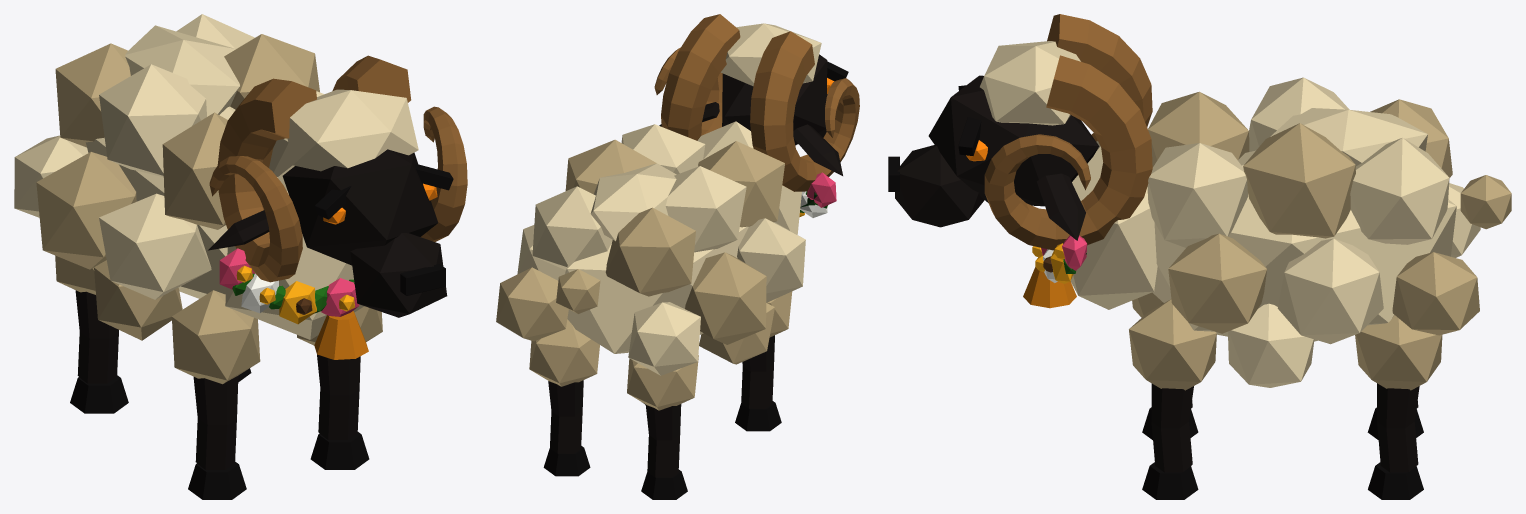
File: Gardien_Prairie_Belier.fbx
3 renders of one model, left to right at view 1: azimuth 30°, elevation 25°; view 2: azimuth 150°, elevation 25°; view 3: azimuth 270°, elevation 25°, orthographic. The views are drawn at different scales.
Visible parts, largest first — view 1: Corps, Tete, Patte_AvD, Guirlande, Patte_AvG, Patte_ArD; view 2: Corps, Tete, Patte_ArG, Patte_ArD, Patte_AvD, Guirlande; view 3: Corps, Tete, Patte_AvG, Patte_ArG, Guirlande, Patte_AvD.
Boxes of the visible parts, left/top/right/bottom form: Corps: left=14, top=14, right=364, bottom=340; Tete: left=208, top=55, right=467, bottom=317; Patte_AvD: left=172, top=290, right=260, bottom=499; Guirlande: left=219, top=248, right=368, bottom=359; Patte_AvG: left=297, top=306, right=382, bottom=469; Patte_ArD: left=55, top=255, right=128, bottom=413; Corps: left=496, top=121, right=805, bottom=375; Tete: left=654, top=14, right=859, bottom=191; Patte_ArG: left=529, top=319, right=599, bottom=476; Patte_ArD: left=627, top=355, right=698, bottom=499; Patte_AvD: left=735, top=291, right=792, bottom=431; Guirlande: left=799, top=172, right=836, bottom=217; Corps: left=1070, top=77, right=1511, bottom=387; Tete: left=888, top=14, right=1152, bottom=250; Patte_AvG: left=1129, top=299, right=1216, bottom=499; Patte_ArG: left=1355, top=315, right=1442, bottom=499; Guirlande: left=1023, top=235, right=1087, bottom=308; Patte_AvD: left=1132, top=292, right=1198, bottom=439.
Bounding box in the file's own units: 8.9 × 12.51 × 16.58.
Materials: 1 (1 with a texture image).
